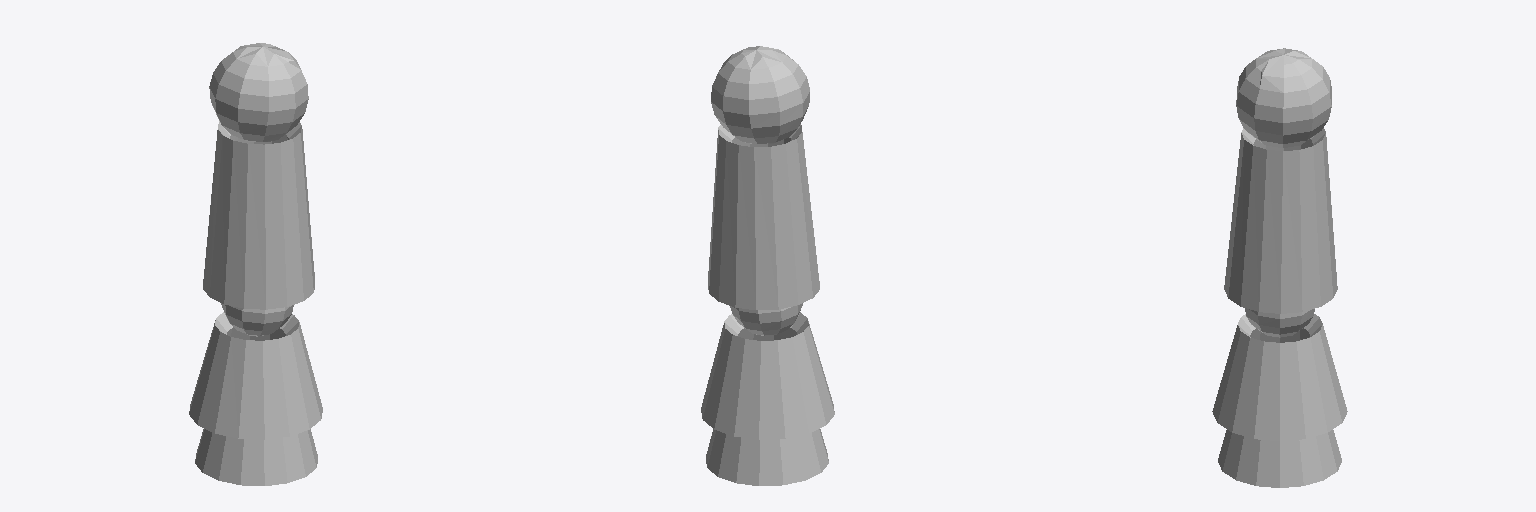
The model's file is med_right_arm.obj.
3 renders of one model, left to right at view 1: azimuth 30°, elevation 25°; view 2: azimuth 150°, elevation 25°; view 3: azimuth 270°, elevation 25°, orthographic.
Parts seen in each view (by area): view 1: polySurface24; view 2: polySurface24; view 3: polySurface24.
Part boxes in pixels (x1,y1,x2,y2): polySurface24: (189, 43, 322, 485); polySurface24: (701, 46, 834, 485); polySurface24: (1212, 48, 1347, 487).
Size of the model in its own units: 2.05 by 6.87 by 2.05.